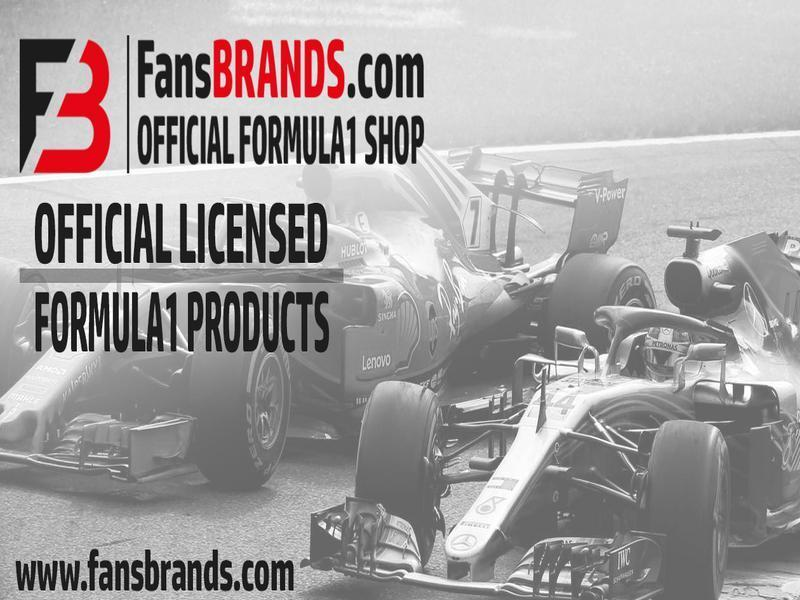f1: (13, 119, 638, 515), (344, 286, 800, 593)
